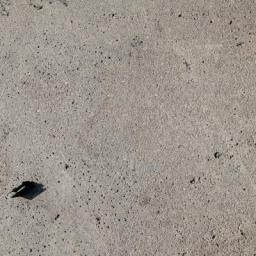FOD: (8, 176, 51, 211)
